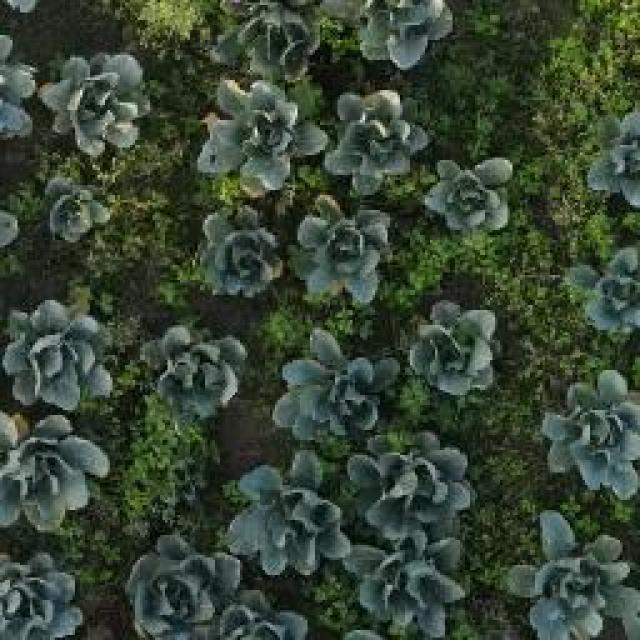cabbage: (516, 508, 631, 640), (228, 455, 355, 573), (269, 330, 397, 444), (344, 432, 474, 543), (123, 531, 249, 638), (0, 410, 108, 532), (210, 72, 320, 190), (38, 50, 155, 157), (7, 296, 119, 406), (547, 372, 640, 498), (295, 194, 395, 302), (345, 552, 469, 636), (328, 88, 425, 194), (142, 321, 244, 417), (0, 545, 90, 640), (199, 204, 287, 301), (415, 308, 501, 396), (425, 156, 516, 237), (222, 0, 328, 68), (356, 0, 453, 67), (577, 240, 640, 337), (43, 173, 126, 241), (588, 105, 640, 206)
